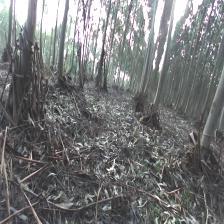trunk: (152, 15, 174, 114), (199, 68, 224, 154), (20, 0, 38, 77), (57, 2, 69, 76), (139, 40, 152, 100), (7, 3, 13, 46)
